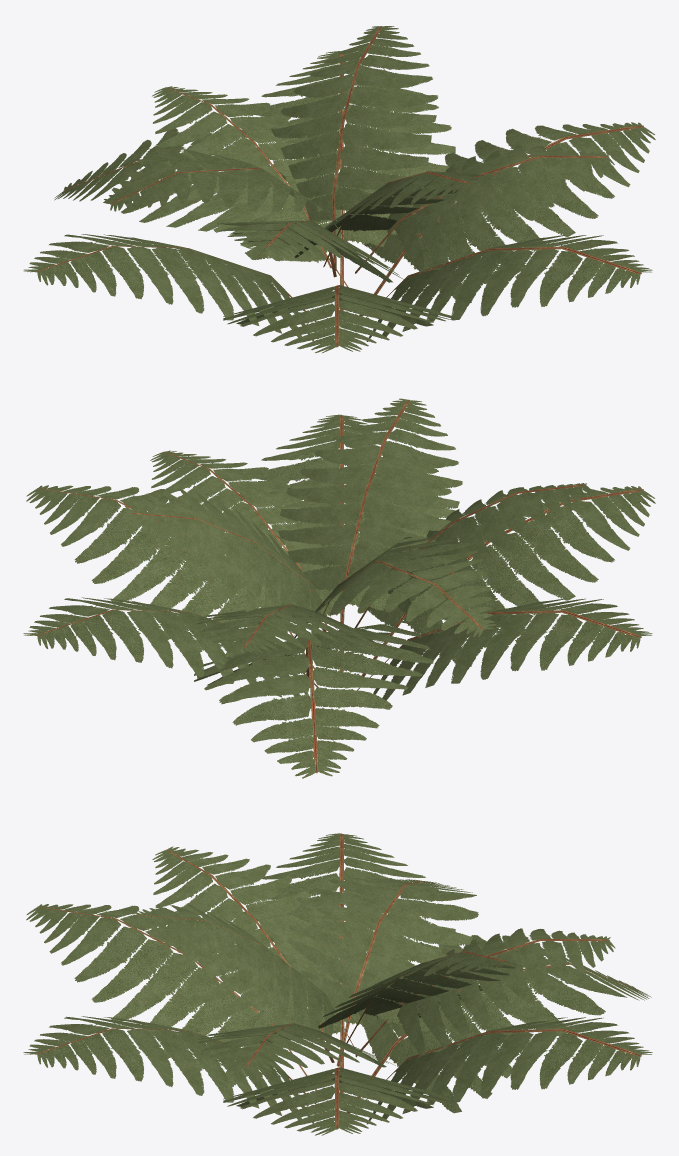
File: TestGeo.FBX
3 views of the same model, one above another, from view 1: azimuth 30°, elevation 25°; view 2: azimuth 150°, elevation 25°; view 3: azimuth 270°, elevation 25° (orthographic).
Visible parts, largest first — view 1: Plane007, Plane002, Plane008, Plane004, Plane001, Plane012, Plane003, Plane011, Plane006, Plane005, Plane009, Plane010; view 2: Plane009, Plane005, Plane003, Plane001, Plane004, Plane007, Plane011, Plane006, Plane008, Plane010, Plane002, Plane012; view 3: Plane011, Plane003, Plane010, Plane006, Plane002, Plane012, Plane005, Plane009, Plane001, Plane004, Plane007, Plane008.
Part boxes in pixels (x1,y1,x2,y2): Plane007: [267, 26, 438, 270]; Plane002: [366, 235, 652, 341]; Plane008: [355, 145, 614, 273]; Plane004: [23, 234, 316, 341]; Plane001: [359, 122, 655, 315]; Plane012: [152, 86, 337, 268]; Plane003: [223, 285, 455, 353]; Plane011: [103, 147, 355, 253]; Plane006: [231, 51, 455, 310]; Plane005: [54, 128, 348, 287]; Plane009: [294, 171, 485, 267]; Plane010: [217, 220, 403, 282]; Plane009: [271, 398, 462, 630]; Plane005: [194, 620, 433, 778]; Plane003: [361, 486, 655, 677]; Plane001: [26, 485, 314, 669]; Plane004: [357, 598, 652, 700]; Plane007: [123, 489, 337, 649]; Plane011: [293, 537, 496, 637]; Plane006: [23, 597, 317, 699]; Plane008: [150, 450, 352, 631]; Plane010: [355, 483, 591, 627]; Plane002: [235, 414, 455, 673]; Plane012: [194, 604, 391, 654]; Plane011: [287, 877, 478, 1066]; Plane003: [26, 904, 323, 1101]; Plane010: [152, 846, 338, 1050]; Plane006: [366, 1017, 652, 1124]; Plane002: [23, 1016, 316, 1123]; Plane012: [355, 928, 615, 1057]; Plane005: [346, 935, 651, 1113]; Plane009: [132, 904, 354, 1050]; Plane001: [223, 1067, 455, 1135]; Plane004: [235, 833, 455, 1092]; Plane007: [318, 951, 517, 1049]; Plane008: [196, 1023, 395, 1073].
Bounding box in the file's own units: 265 × 87.69 × 229.
Materials: 1 (1 with a texture image).
